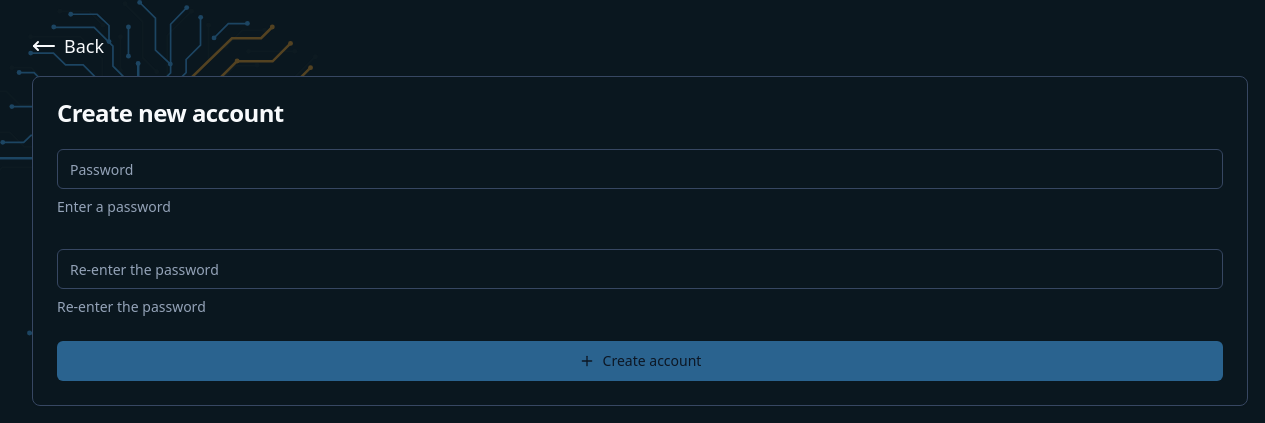
Test case: CreateAccount › should render the mnemonic display component once the account is created
Type "test123456" into the password field labelled "Password".
click(640, 169); type("test123456")  # box left=57, top=149, right=1223, bottom=189
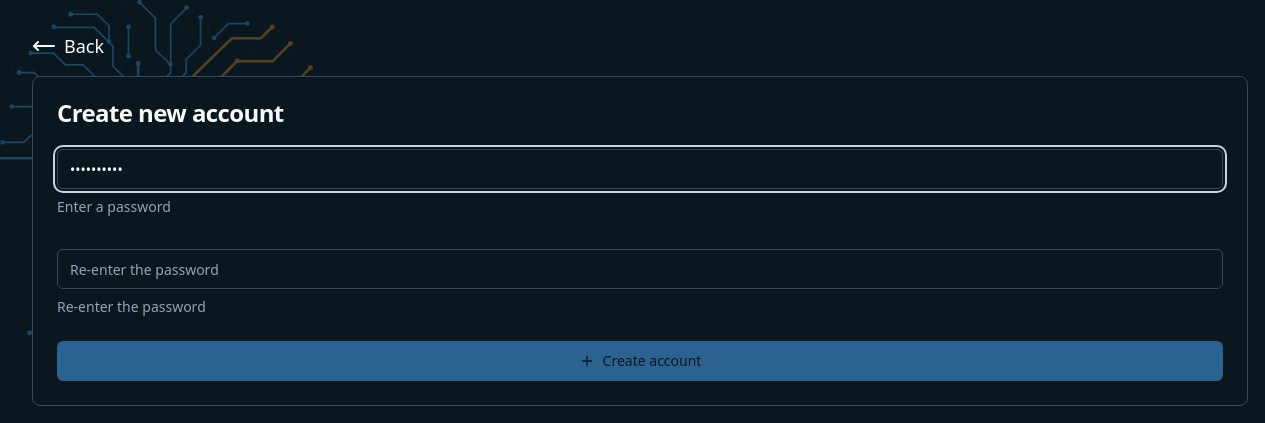
Type "test123456" into the password field named "reEnteredPassword".
click(640, 269); type("test123456")  # box left=57, top=249, right=1223, bottom=289
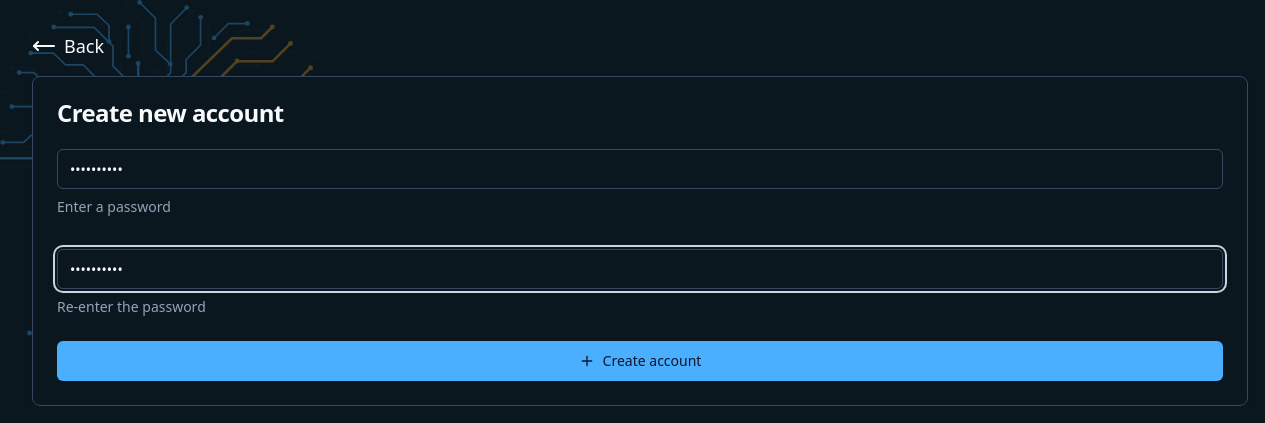
Click the button "Create account".
click(640, 361)  # box left=57, top=341, right=1223, bottom=381
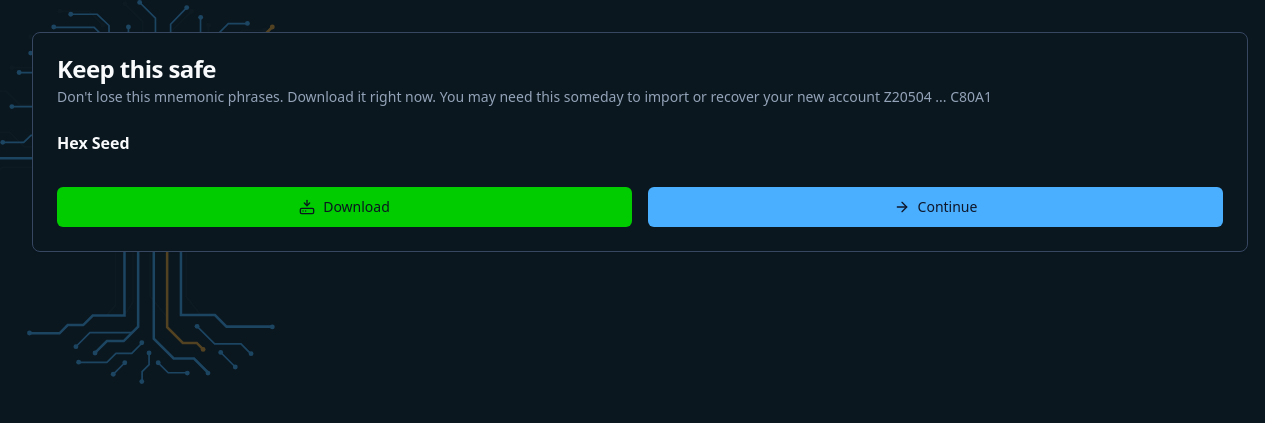
Expected: the heading reads "Keep this safe", left=57, top=52, right=216, bottom=85
Expected: the text "Don't lose this mnemonic phrases. Download it right now. You may need this someday to import or recover your new account Z20504 ... C80A1" is shown, left=57, top=87, right=992, bottom=106
Expected: the button "Download" is enabled, left=57, top=187, right=632, bottom=227
